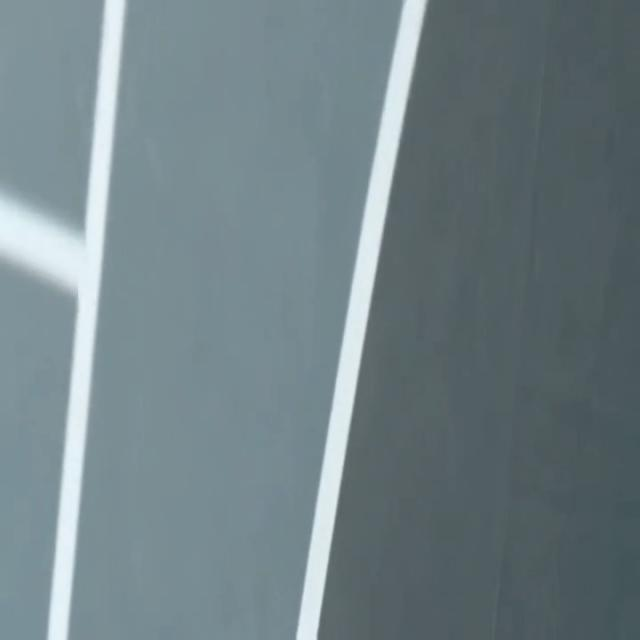left: (297, 0, 427, 639)
